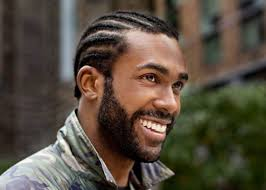b.y: (99, 95, 141, 162)
